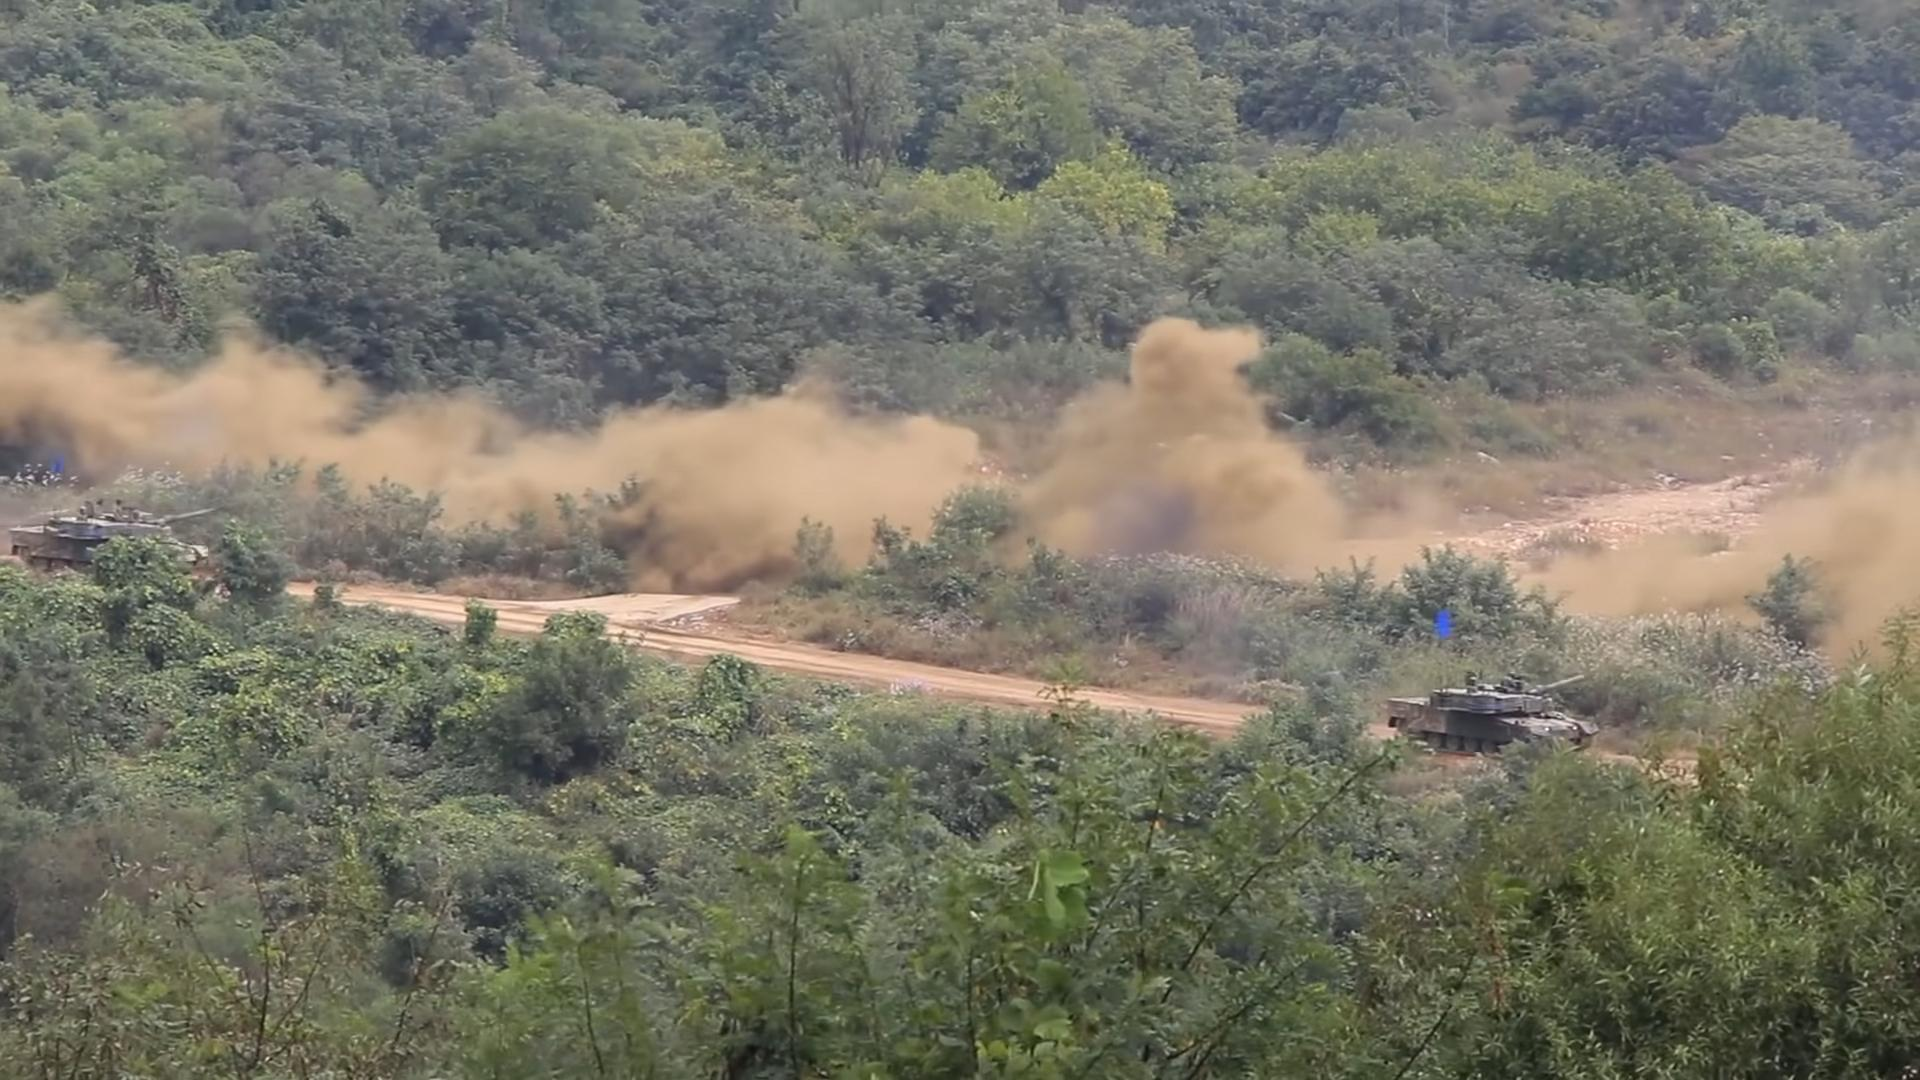tank: (1387, 669, 1601, 758)
